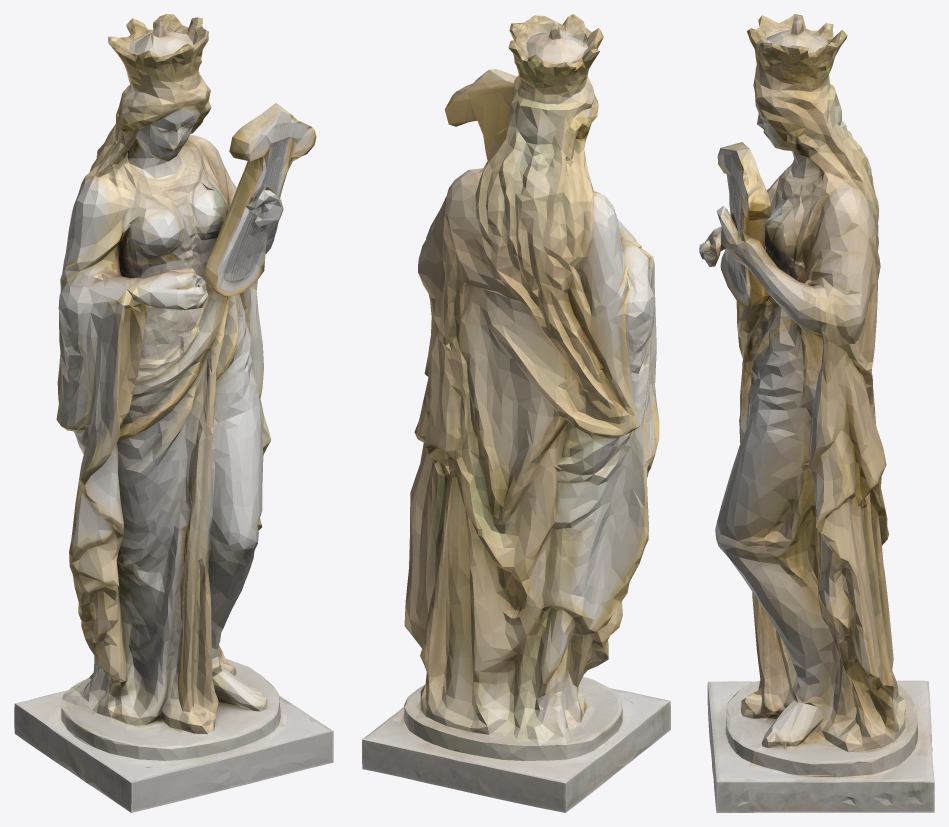
Rendered from goddes_statue_with_in_0616161106_texture.fbx.
3 renders of one model, left to right at view 1: azimuth 30°, elevation 25°; view 2: azimuth 150°, elevation 25°; view 3: azimuth 270°, elevation 25°, orthographic. The views are drawn at different scales.
Parts seen in each view (by area): view 1: temp; view 2: temp; view 3: temp.
Part boxes in pixels (x1,y1,x2,y2): temp: (14, 14, 333, 812); temp: (362, 14, 670, 812); temp: (699, 14, 934, 812).
Bounding box in the file's own units: 63.56 × 200 × 57.94.
1 material, 1 textured.
